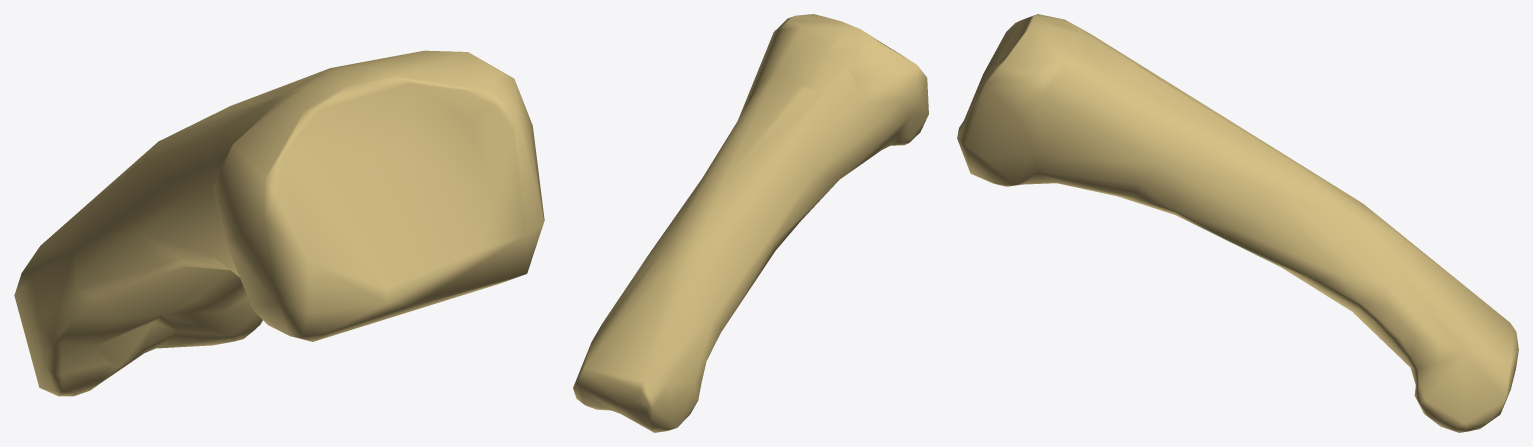
3 renders of one model, left to right at view 1: azimuth 30°, elevation 25°; view 2: azimuth 150°, elevation 25°; view 3: azimuth 270°, elevation 25°, orthographic. The views are drawn at different scales.
Visible parts, largest first — view 1: 左侧第三指近节指骨; view 2: 左侧第三指近节指骨; view 3: 左侧第三指近节指骨.
Part boxes in pixels (x1,y1,x2,y2): 左侧第三指近节指骨: (14,50,544,396); 左侧第三指近节指骨: (573,14,928,432); 左侧第三指近节指骨: (957,14,1518,432).
Bounding box in the file's own units: 0.0279 × 0.0445 × 0.0621.
